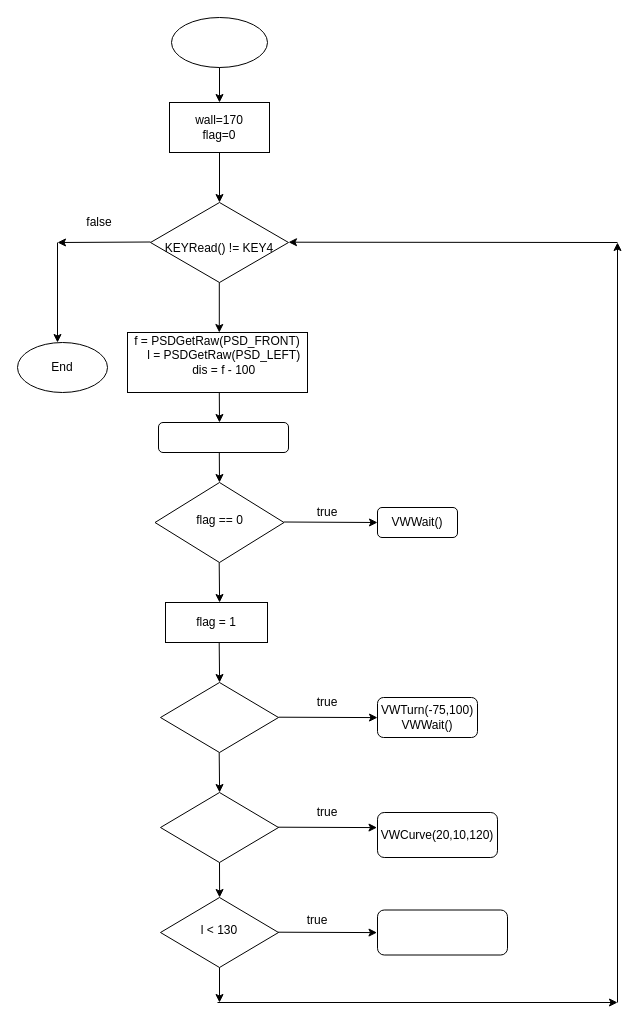
Image size: 643x1028. Some labels were removed from this diagram. Each missing label, with the box of its shape:
f < Wall: (160, 682, 278, 752)
l > 150: (160, 792, 278, 862)
Start: (170, 16, 268, 68)
VWCurve(20,-10,120): (376, 909, 508, 955)
VWStraight(dis, 250): (158, 422, 288, 452)
